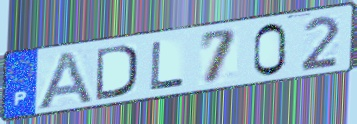0: (252, 21, 289, 78)
2: (300, 13, 343, 74)
7: (197, 26, 242, 87)
A: (33, 48, 96, 112)
D: (94, 42, 140, 102)
L: (149, 39, 187, 91)
